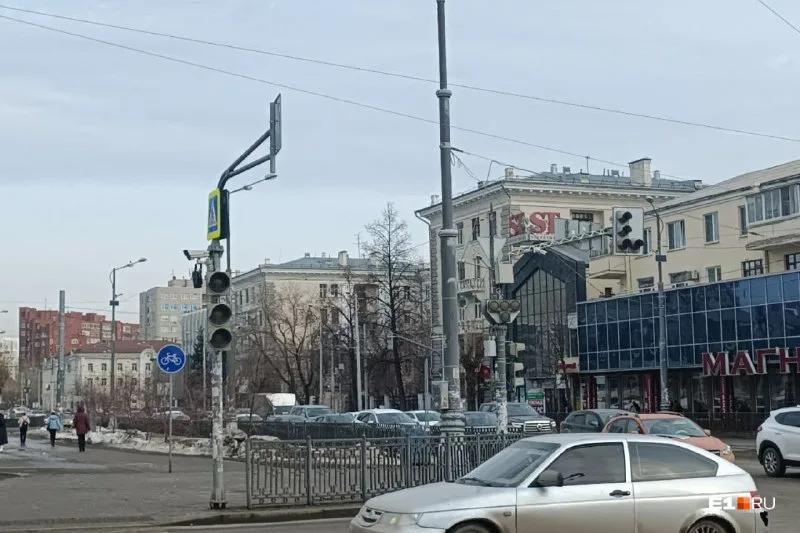off traffic light: (206, 302, 233, 351), (615, 211, 645, 254), (205, 272, 231, 296), (510, 362, 525, 393)
road_sign: (156, 344, 186, 374), (206, 189, 220, 240)
